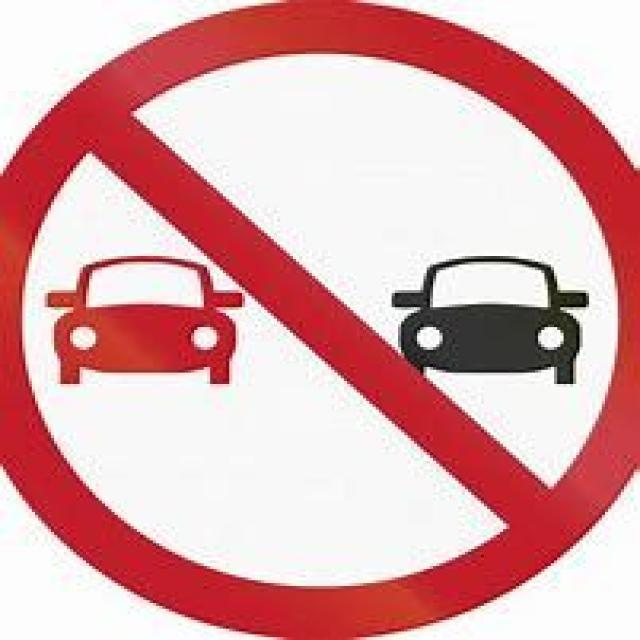overtaking prohibited: (21, 20, 627, 612)
